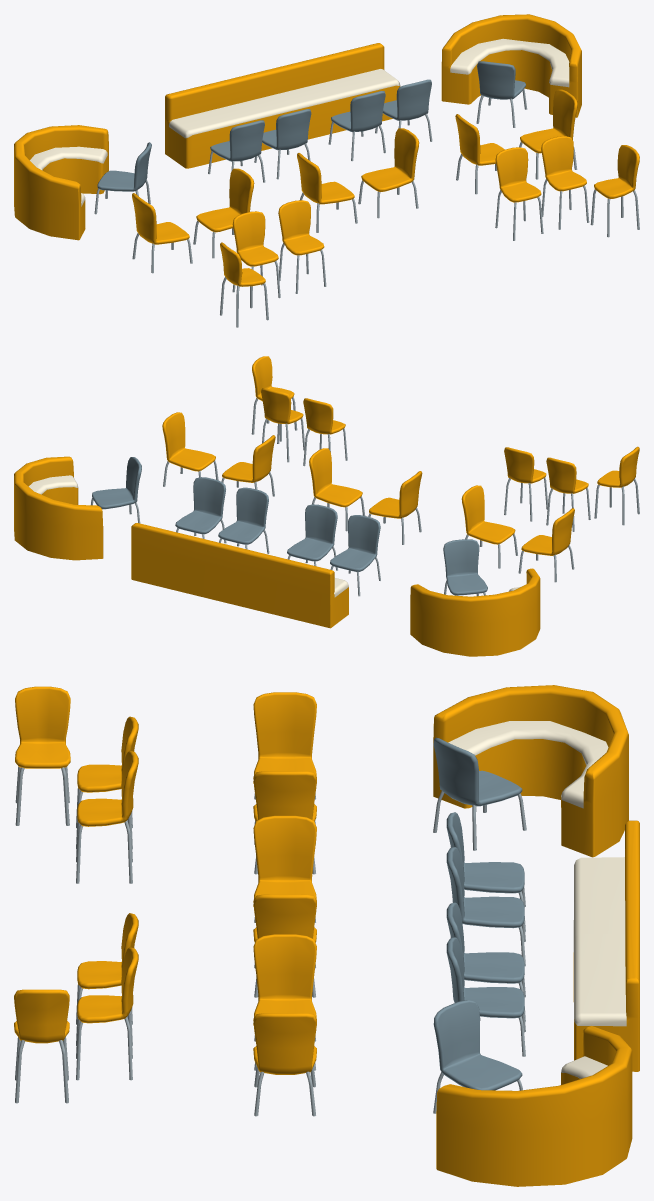
Rendered from yellow_chairs&sofas.fbx.
3 renders of one model, top to bottom at view 1: azimuth 30°, elevation 25°; view 2: azimuth 150°, elevation 25°; view 3: azimuth 270°, elevation 25°, orthographic. The views are drawn at different scales.
Visible parts, largest first — view 1: sopha1, sopha, sopha2, chair3, counter_chair4, counter_chair2, counter_chair3, counter_chair1, chair, counter_chair5, chair11, chair6 (+9 smaller); view 2: sopha1, sopha2, sopha, chair10, chair8, chair6, chair7, chair9, chair5, chair, chair3, chair1 (+9 smaller); view 3: sopha, sopha2, sopha1, counter_chair, chair4, chair2, chair1, chair11, chair5, chair10, counter_chair5, chair (+9 smaller).
Boxes of the visible parts, bbox=[...] form: sopha1: bbox=[165, 43, 400, 168]; sopha: bbox=[441, 14, 581, 117]; sopha2: bbox=[14, 125, 108, 240]; chair3: bbox=[358, 128, 419, 218]; counter_chair4: bbox=[495, 147, 543, 240]; counter_chair2: bbox=[278, 200, 326, 293]; counter_chair3: bbox=[541, 136, 589, 229]; counter_chair1: bbox=[232, 211, 280, 298]; chair: bbox=[193, 168, 254, 258]; counter_chair5: bbox=[590, 145, 639, 237]; chair11: bbox=[476, 61, 527, 127]; chair6: bbox=[328, 91, 385, 161]; sopha1: bbox=[131, 523, 348, 628]; sopha2: bbox=[410, 568, 540, 656]; sopha: bbox=[14, 456, 103, 560]; chair10: bbox=[443, 539, 487, 595]; chair8: bbox=[330, 515, 380, 596]; chair6: bbox=[218, 487, 269, 553]; chair7: bbox=[175, 477, 226, 543]; chair9: bbox=[287, 504, 337, 570]; chair5: bbox=[162, 412, 218, 486]; chair: bbox=[461, 485, 517, 568]; chair3: bbox=[309, 448, 365, 531]; chair1: bbox=[518, 508, 574, 582]; sopha: bbox=[436, 1026, 632, 1186]; sopha2: bbox=[433, 685, 628, 857]; sopha1: bbox=[573, 820, 639, 1071]; counter_chair: bbox=[15, 686, 70, 825]; chair4: bbox=[253, 934, 316, 1070]; chair2: bbox=[253, 815, 316, 922]; chair1: bbox=[253, 692, 316, 824]; chair11: bbox=[433, 1000, 522, 1113]; chair5: bbox=[253, 1013, 316, 1116]; chair10: bbox=[433, 737, 526, 850]; counter_chair5: bbox=[14, 989, 69, 1103]; chair: bbox=[253, 771, 316, 874].
Bounding box in the file's own units: 43.69 × 6.2 × 28.2.
Materials: 1 (1 with a texture image).
